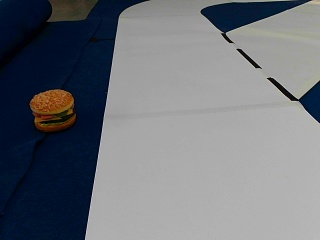burger: (29, 88, 76, 131)
